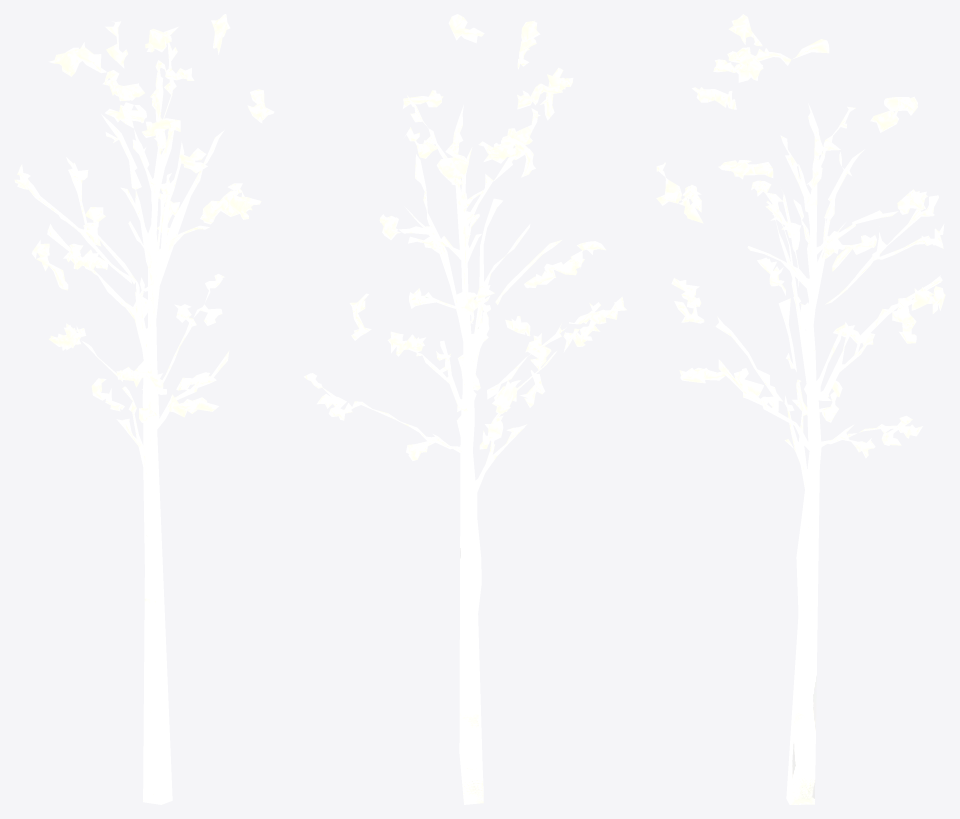
The model's file is tree_birch.glb.
The picture shows the model from 3 angles, left to right: view 1: azimuth 30°, elevation 25°; view 2: azimuth 150°, elevation 25°; view 3: azimuth 270°, elevation 25°; orthographic projection. The views are drawn at different scales.
Parts seen in each view (by area): view 1: Mesh1.0; view 2: Mesh1.0; view 3: Mesh1.0.
Part boxes in pixels (x1,y1,x2,y2): Mesh1.0: (14, 14, 274, 804); Mesh1.0: (304, 14, 626, 804); Mesh1.0: (656, 14, 945, 804).
Size of the model in its own units: 0.58 by 1.87 by 0.636.
Materials: 1 (1 with a texture image).
